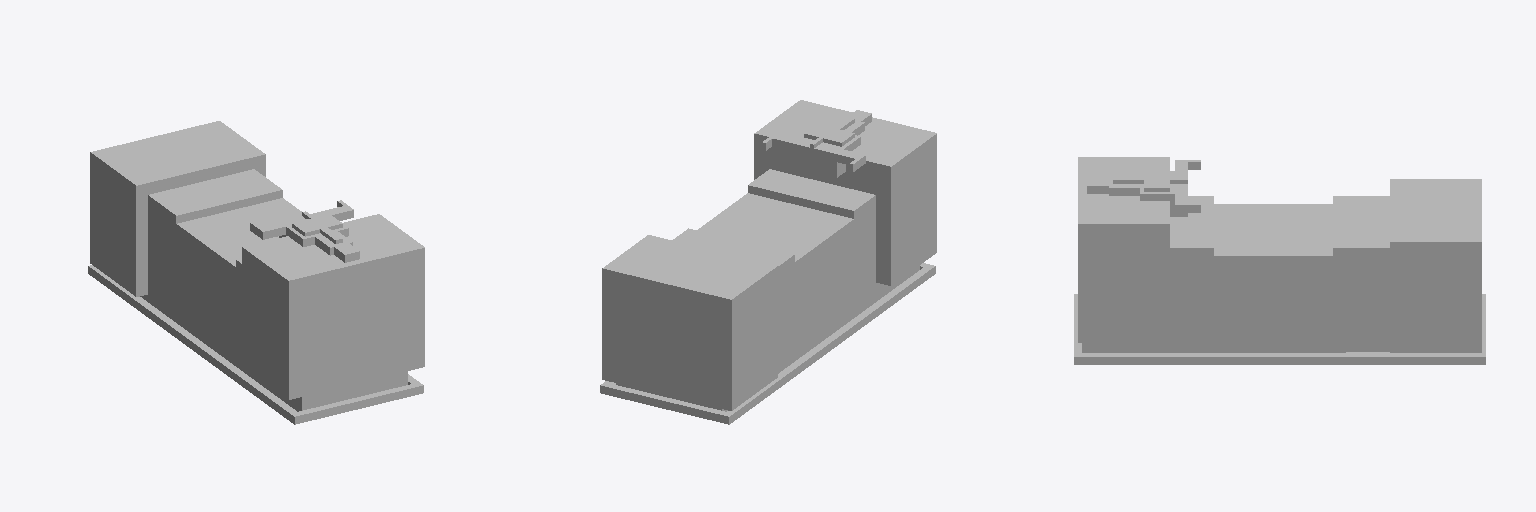
File: motorbike obj.obj
The picture shows the model from 3 angles: view 1: azimuth 30°, elevation 25°; view 2: azimuth 150°, elevation 25°; view 3: azimuth 270°, elevation 25°; orthographic projection.
Parts seen in each view (by area): view 1: object 1; view 2: object 1; view 3: object 1.
Part boxes in pixels (bbox=[...]): object 1: bbox=[88, 121, 424, 424]; object 1: bbox=[600, 100, 936, 424]; object 1: bbox=[1074, 157, 1485, 364].
Bounding box in the file's own units: 3.6 × 3.9 × 9.4.